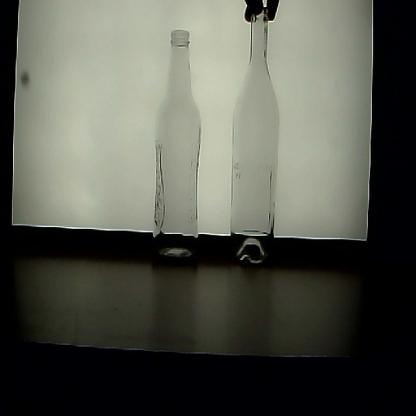Can: (150, 30, 204, 272), (232, 8, 278, 274)
